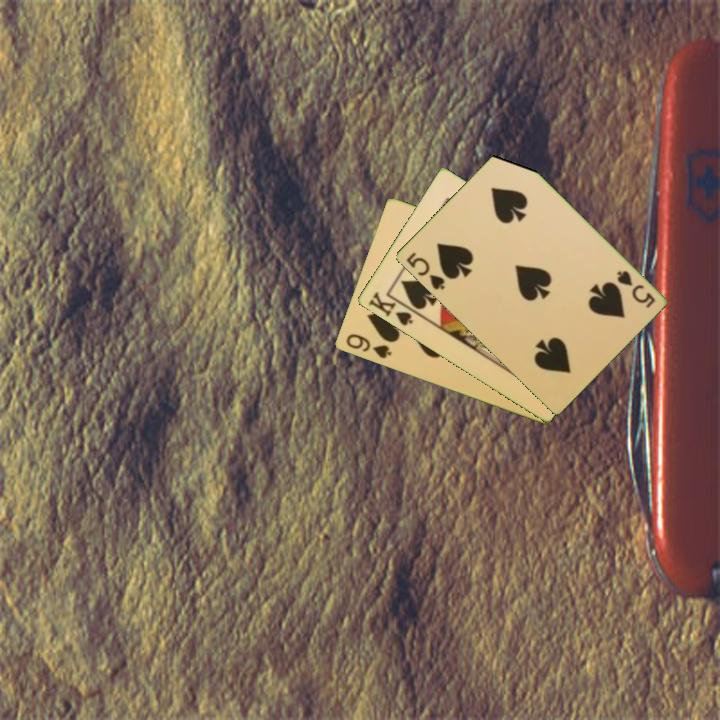5s: (402, 249, 448, 293), (613, 267, 658, 311)
9s: (342, 330, 394, 362)
Ks: (364, 288, 416, 329)
